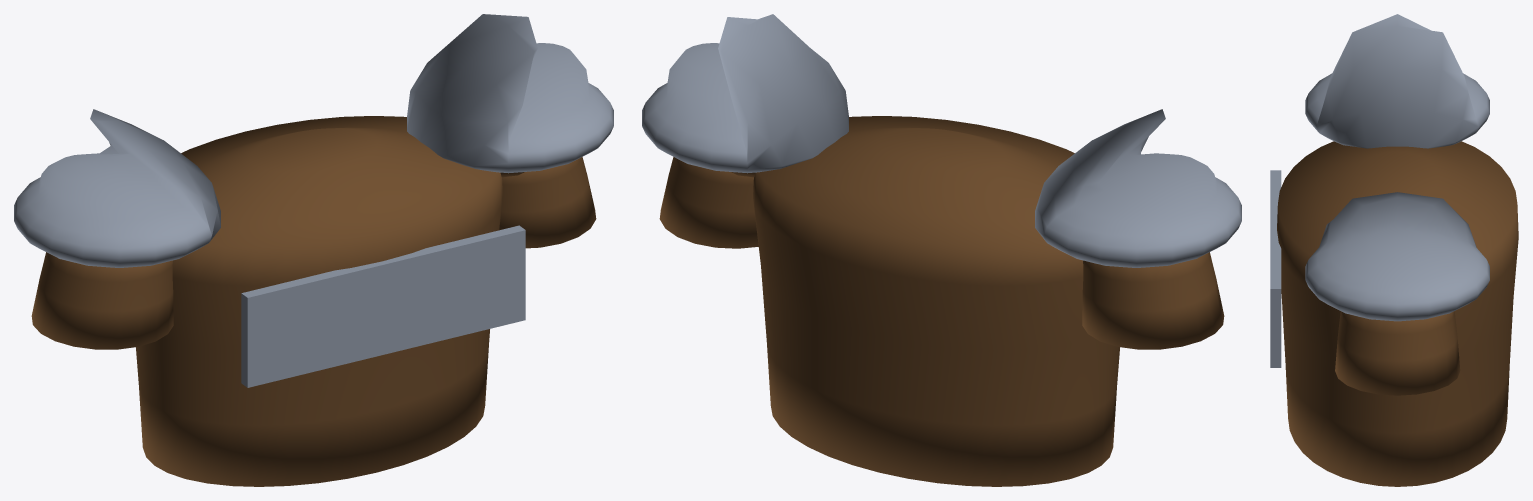
File: top_ancient_4.glb
3 views of the same model, side by side, from view 1: azimuth 30°, elevation 25°; view 2: azimuth 150°, elevation 25°; view 3: azimuth 270°, elevation 25° (orthographic). The views are drawn at different scales.
Size of the model in its own units: 0.6944 by 0.413 by 0.297.
